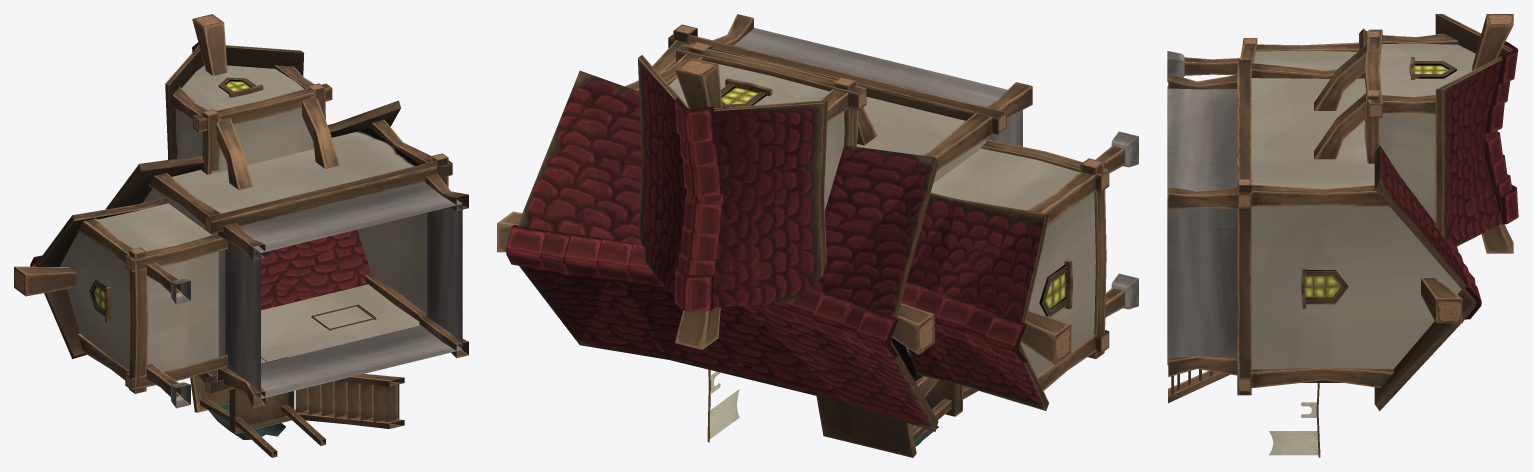
Rendered from House_01.FBX.
3 renders of one model, left to right at view 1: azimuth 30°, elevation 25°; view 2: azimuth 150°, elevation 25°; view 3: azimuth 270°, elevation 25°, orthographic. The views are drawn at different scales.
Parts seen in each view (by area): view 1: Object072; view 2: Object072; view 3: Object072.
Boxes of the visible parts, x1,y1,x2,y2 form: Object072: [14, 14, 468, 457]; Object072: [497, 14, 1138, 457]; Object072: [1167, 14, 1518, 457].
Size of the model in its own units: 1858 by 1588 by 1268.
